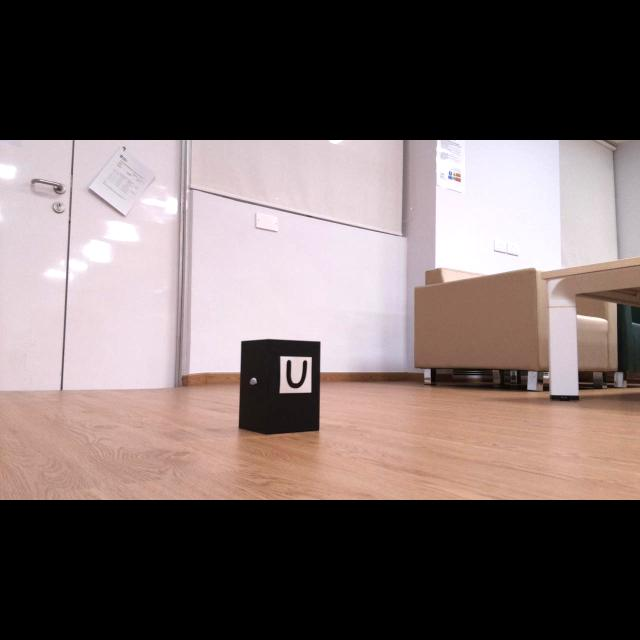U: (286, 360, 307, 388)
